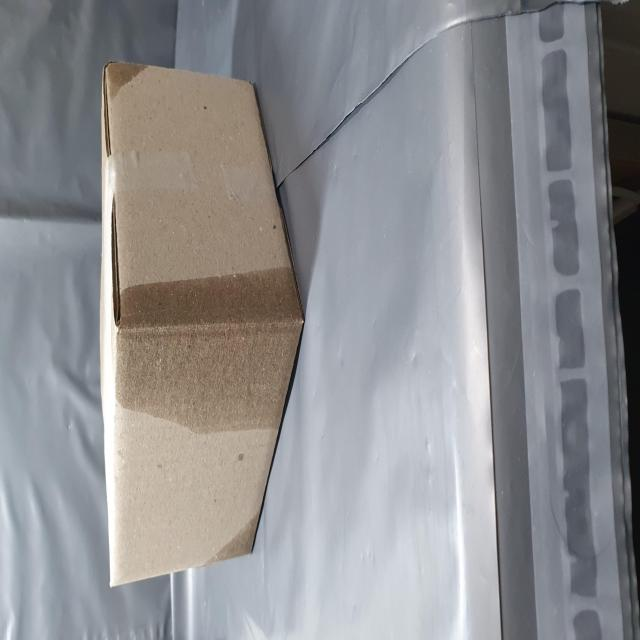wet: (100, 196, 226, 554)
